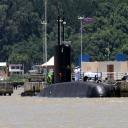submarine: (40, 8, 114, 97)
